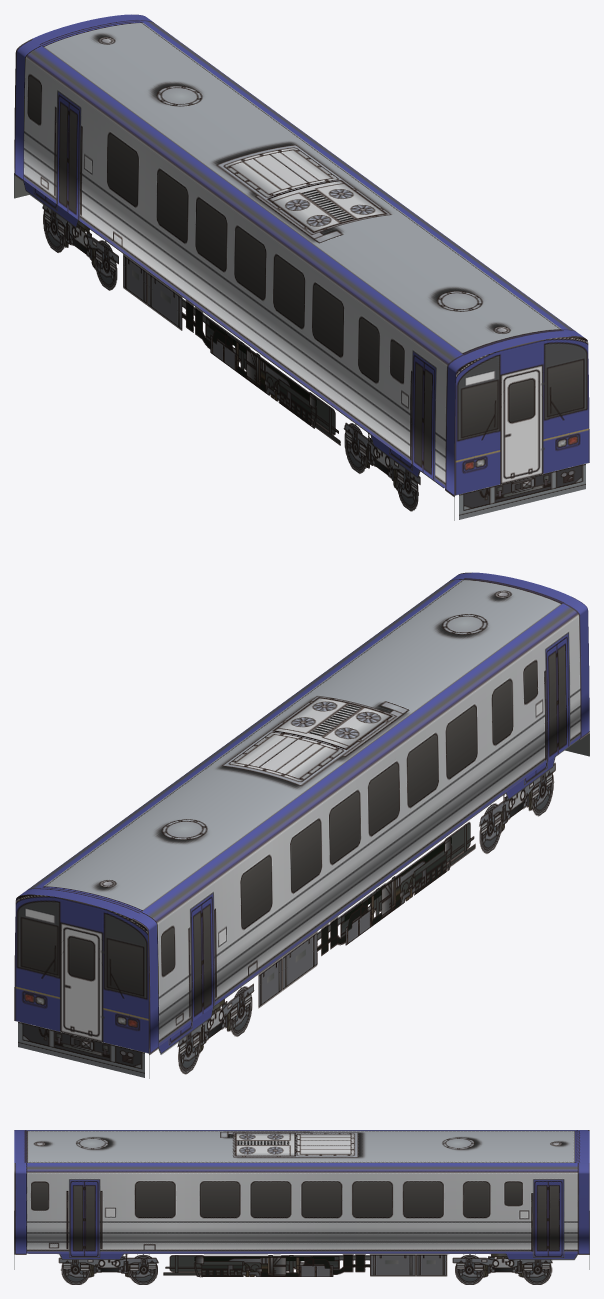
Rendered from car1.glb.
3 renders of one model, top to bottom at view 1: azimuth 30°, elevation 25°; view 2: azimuth 150°, elevation 25°; view 3: azimuth 270°, elevation 25°, orthographic. The views are drawn at different scales.
Parts seen in each view (by area): view 1: kiha120-kameyama-car1; view 2: kiha120-kameyama-car1; view 3: kiha120-kameyama-car1.
Part boxes in pixels (x1=…): kiha120-kameyama-car1: x1=14, y1=14, x2=589, y2=520; kiha120-kameyama-car1: x1=14, y1=572, x2=589, y2=1078; kiha120-kameyama-car1: x1=14, y1=1130, x2=589, y2=1284.
Size of the model in its own units: 2.8 by 3.62 by 15.83.
Materials: 8 (7 with a texture image).
